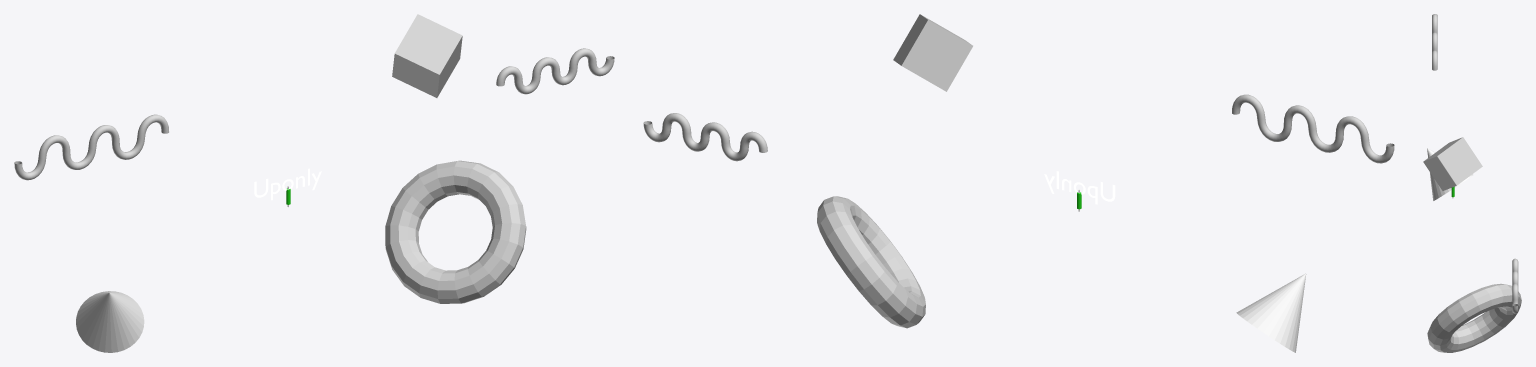
The model's file is common4.glb.
3 views of the same model, side by side, from view 1: azimuth 30°, elevation 25°; view 2: azimuth 150°, elevation 25°; view 3: azimuth 270°, elevation 25° (orthographic). The views are drawn at different scales.
Parts seen in each view (by area): view 1: Torus, Cube, Cone, Wave_Left, Wave_Right; view 2: Torus, Cube, Cone, Wave_Left, Wave_Right; view 3: Torus, Cube, Wave_Right, Wave_Left, Cone.
Part boxes in pixels (x1,y1,x2,y2): Torus: [385, 160, 526, 303]; Cube: [392, 14, 462, 97]; Cone: [76, 291, 144, 352]; Wave_Left: [14, 114, 168, 180]; Wave_Right: [496, 48, 614, 94]; Torus: [817, 196, 925, 328]; Cube: [893, 14, 972, 91]; Cone: [1236, 273, 1306, 352]; Wave_Left: [1232, 94, 1394, 163]; Wave_Right: [643, 113, 767, 161]; Torus: [1427, 283, 1521, 352]; Cube: [1423, 137, 1482, 190]; Wave_Right: [1512, 258, 1518, 313]; Wave_Left: [1432, 14, 1437, 70]; Cone: [1427, 148, 1472, 200].
Size of what is drawn, in the model's own units: 8.72 by 3.71 by 1.62.
Materials: 5 (2 with a texture image).
